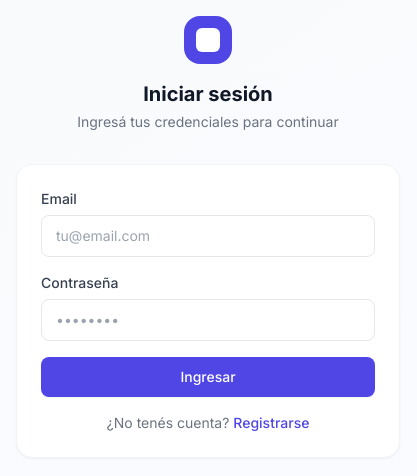
Test: AuthenticationPage › switches between login and register modes
Click the button "Registrarse".
click(271, 423)  # box [233,413,309,433]
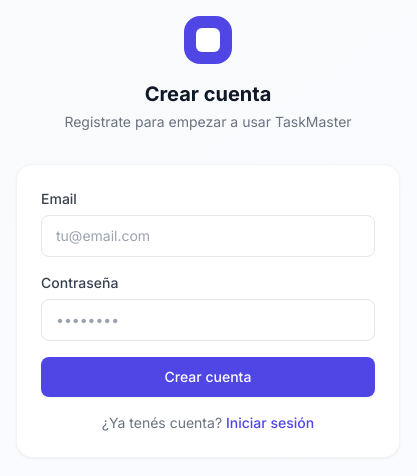
Expected: the button "Crear cuenta" is shown, [41,357,375,397]
Click the button "Iniciar sesión".
click(270, 423)  # box [226,413,314,433]
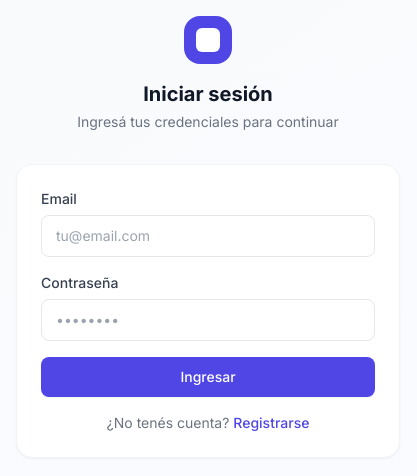
Expected: the button "Ingresar" is shown, [41,357,375,397]
